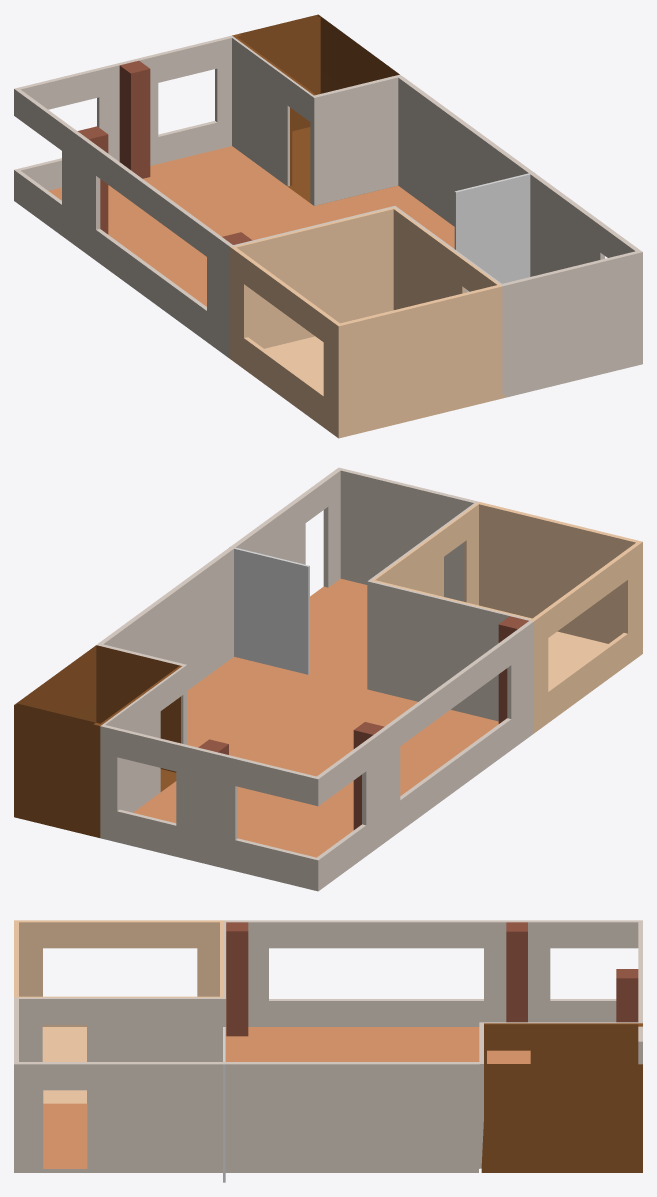
File: OfficeWalls 1.fbx
3 views of the same model, one above another, from view 1: azimuth 30°, elevation 25°; view 2: azimuth 150°, elevation 25°; view 3: azimuth 270°, elevation 25° (orthographic). The views are drawn at different scales.
Parts seen in each view (by area): view 1: Cube, Cube.001, Cube.004, Cube.002, Cube.006, Cube.003; view 2: Cube, Cube.004, Cube.001, Cube.002, Cube.006, Cube.003; view 3: Cube, Cube.002, Cube.004, Cube.001, Cube.003, Cube.006.
Part boxes in pixels (<box>): Cube: <box>14,35,642,397</box>; Cube.001: <box>229,207,504,438</box>; Cube.004: <box>49,146,454,306</box>; Cube.002: <box>232,14,399,204</box>; Cube.006: <box>454,172,534,292</box>; Cube.003: <box>77,60,252,244</box>; Cube: <box>96,467,533,891</box>; Cube.004: <box>133,578,498,857</box>; Cube.001: <box>371,501,642,733</box>; Cube.002: <box>14,645,181,837</box>; Cube.006: <box>229,546,309,674</box>; Cube.003: <box>198,616,528,829</box>; Cube: <box>14,920,642,1172</box>; Cube.002: <box>481,1023,642,1172</box>; Cube.004: <box>43,1027,530,1168</box>; Cube.001: <box>14,920,226,1103</box>; Cube.003: <box>226,922,638,1036</box>; Cube.006: <box>223,1027,225,1182</box>.
Bounding box in the file's own units: 2441 × 935 × 4506.
